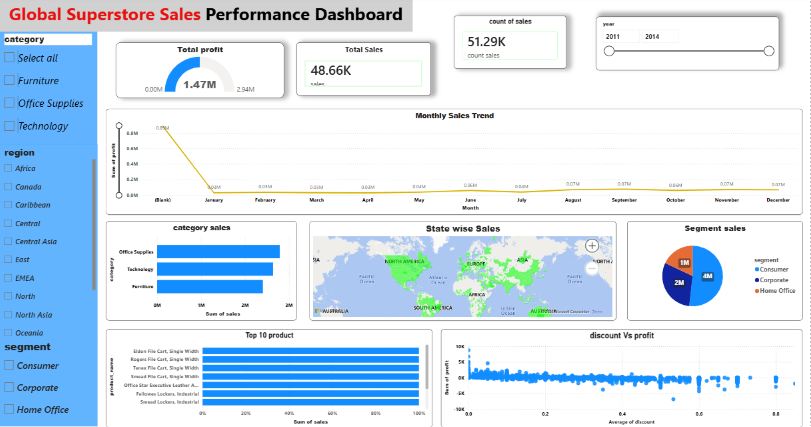

The dashboard page shown, as its layout file describes it:
{"tool":"powerbi","page":{"name":"Overview","canvas":[2000,1056],"ordinal":0},"visuals":[{"type":"textbox","box":[0,0,1018.3,78.8],"z":0},{"type":"lineChart","title":"Monthly  Sales Trend","fields":{"Category":["Superstore_Cleaned.order_date.Variation.Date Hierarchy.Month"],"Y":["Sum(Superstore_Cleaned.profit)"]},"box":[263.3,267.3,1714.3,261.2],"z":1000},{"type":"clusteredBarChart","title":"category  sales  ","fields":{"Category":["Superstore_Cleaned.category"],"Y":["Sum(Superstore_Cleaned.sales)"]},"box":[263.3,544.9,469.4,244.9],"z":2000},{"type":"hundredPercentStackedBarChart","title":"Top 10 product","fields":{"Category":["Superstore_Cleaned.product_name"],"Y":["Sum(Superstore_Cleaned.sales)"]},"box":[263.4,811.2,803.3,244.9],"z":3000},{"type":"pieChart","title":" Segment  sales","fields":{"Category":["Superstore_Cleaned.segment"],"Y":["Sum(Superstore_Cleaned.sales)"]},"box":[1544.9,544.9,432.7,244.9],"z":4000},{"type":"filledMap","title":"State wise Sales","fields":{"Category":["Superstore_Cleaned.state"]},"box":[763.3,544.9,755.1,244.9],"z":5000},{"type":"scatterChart","title":"discount Vs profit ","fields":{"Y":["Sum(Superstore_Cleaned.profit)"],"Category":["Superstore_Cleaned.order_id"],"X":["Avg(Superstore_Cleaned.discount)"]},"box":[1087.8,810.2,889.8,244.9],"z":6000},{"type":"slicer","fields":{"Values":["Superstore_Cleaned.year"]},"box":[1469,41.2,450.3,131.8],"z":7000},{"type":"cardVisual","title":"count of sales","fields":{"Data":["CountNonNull(Superstore_Cleaned.order_id)"]},"box":[1120.4,38.8,277.6,130.6],"z":8000},{"type":"cardVisual","title":"Total Sales","fields":{"Data":["CountNonNull(Superstore_Cleaned.sales)"]},"box":[732.7,104.1,330.6,130.6],"z":9000},{"type":"gauge","title":"Total profit","fields":{"Y":["Sum(Superstore_Cleaned.profit)"]},"box":[288.3,104.3,414.6,137.3],"z":10000},{"type":"slicer","fields":{"Values":["Superstore_Cleaned.category"]},"box":[0,79.6,241.6,277.3],"z":11000},{"type":"slicer","fields":{"Values":["Superstore_Cleaned.region"]},"box":[0,355.6,242.3,476.7],"z":11001},{"type":"slicer","fields":{"Values":["Superstore_Cleaned.segment"]},"box":[0,832.3,242.3,221.2],"z":11002}]}

Visuals, with their boxes in screenshot pixels (x1, y1, x2, y2), scaled from the page's 2000x1056 canvas onto the 811x427 screenshot:
textbox: 0, 0, 413, 32
"Monthly  Sales Trend" lineChart: 107, 108, 802, 214
"category  sales  " clusteredBarChart: 107, 220, 297, 319
"Top 10 product" hundredPercentStackedBarChart: 107, 328, 433, 426
" Segment  sales" pieChart: 626, 220, 802, 319
"State wise Sales" filledMap: 310, 220, 616, 319
"discount Vs profit " scatterChart: 441, 328, 802, 426
slicer - Superstore_Cleaned.year: 596, 17, 778, 70
"count of sales" cardVisual: 454, 16, 567, 68
"Total Sales" cardVisual: 297, 42, 431, 95
"Total profit" gauge: 117, 42, 285, 98
slicer - Superstore_Cleaned.category: 0, 32, 98, 144
slicer - Superstore_Cleaned.region: 0, 144, 98, 337
slicer - Superstore_Cleaned.segment: 0, 337, 98, 426
